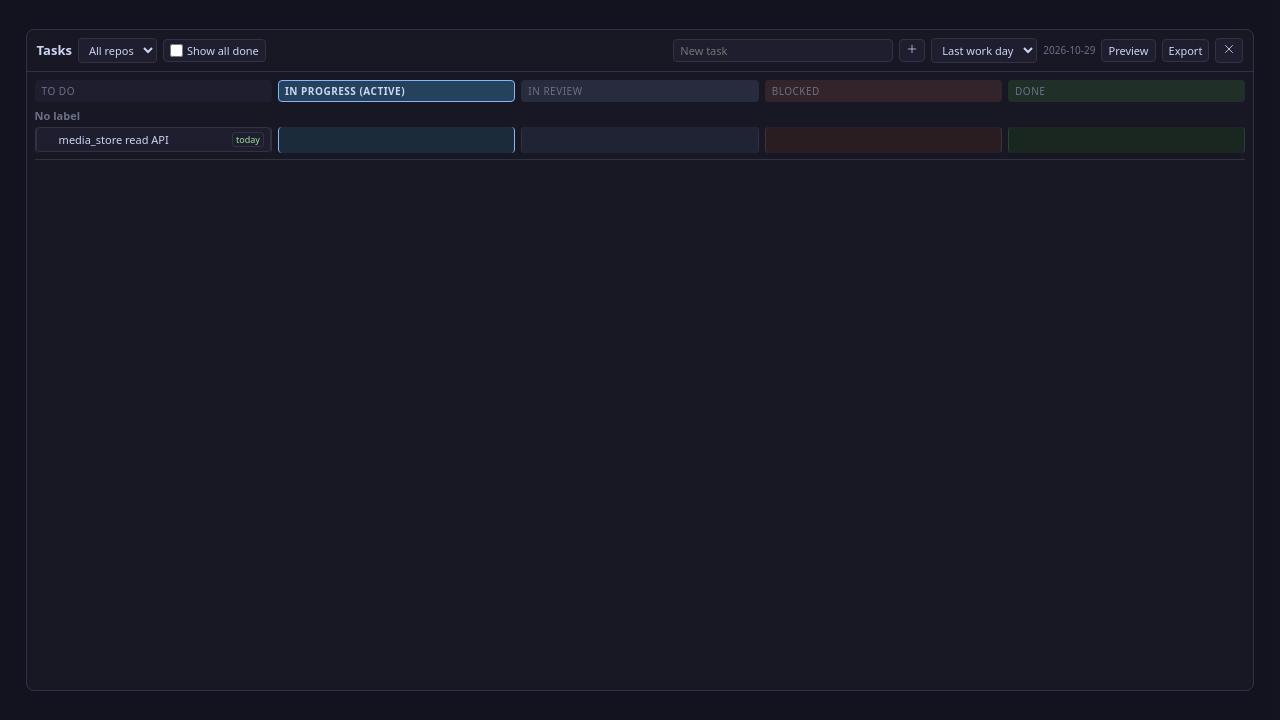
Test: clickable links in the activity log › leaves a link-free entry as plain text
Expected: the text "media_store read API" is shown, [59,132,169,147]
Step 1. Click the button "media_store read API today" → click(153, 139), box [36,127,271,152]
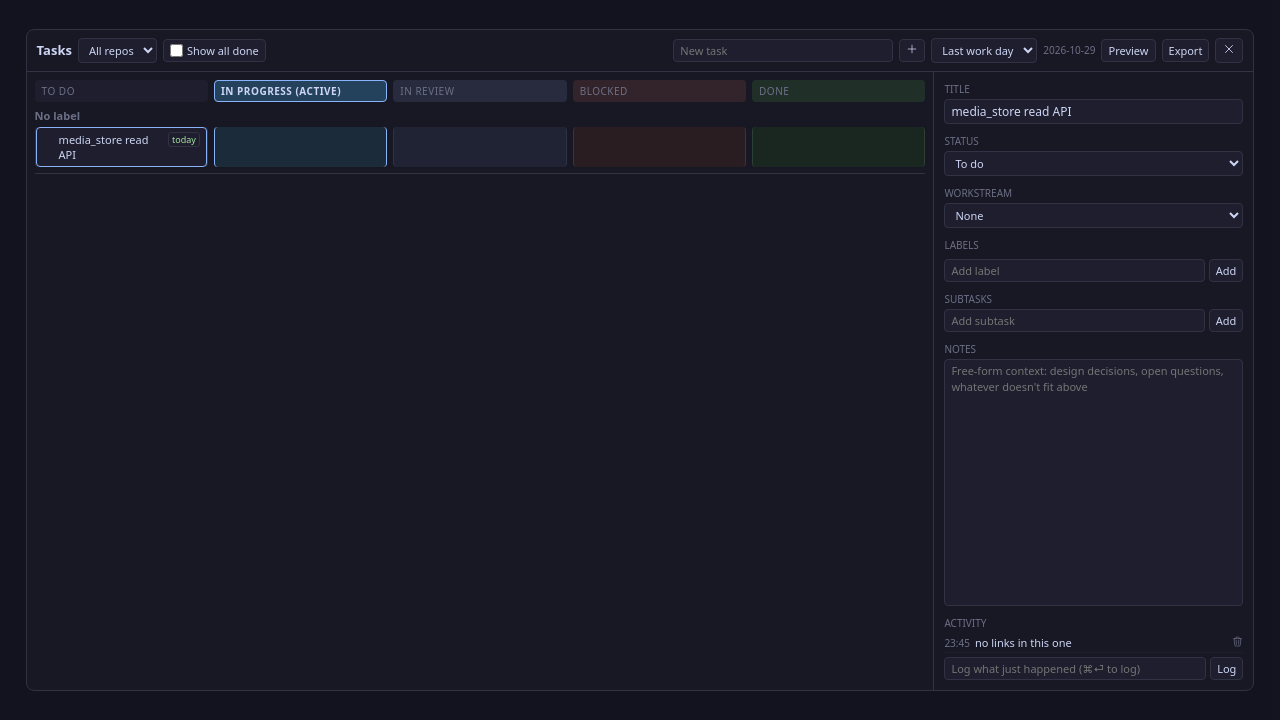
Now the element with test id "^event-text-" reads "no links in this one", box [975,635,1072,650]
